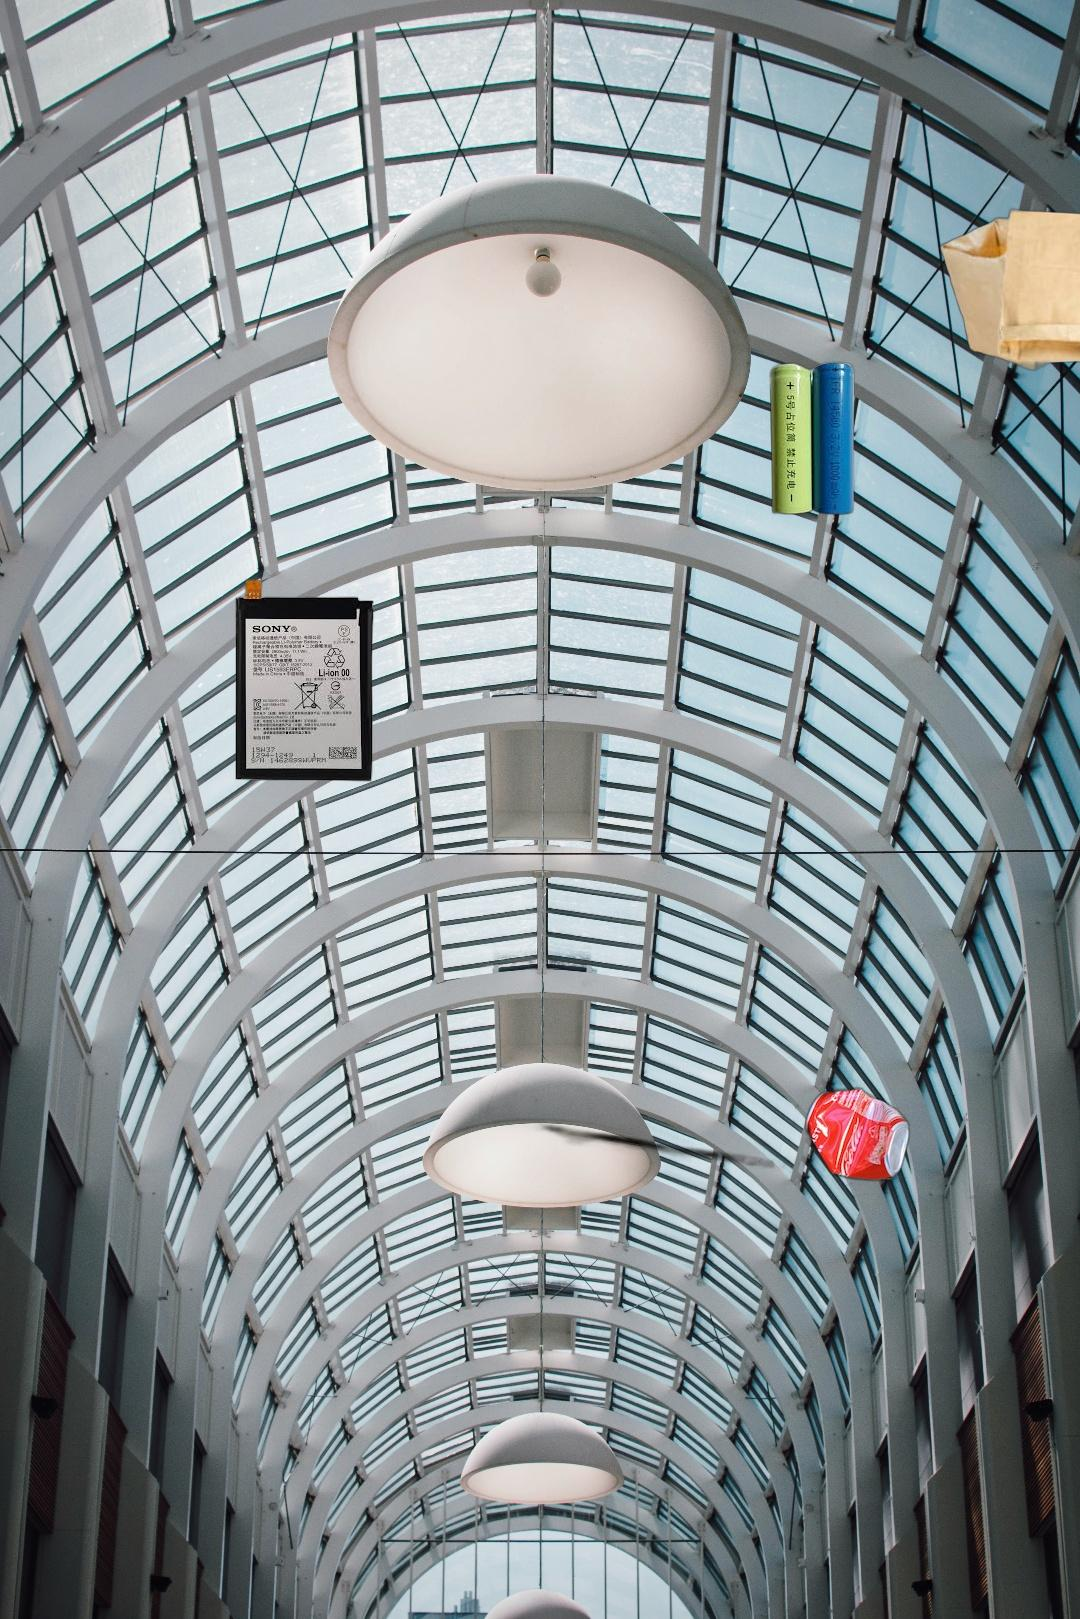battery: (233, 577, 376, 784), (767, 360, 857, 518)
metal-cans: (479, 976, 991, 1242)
paper-bag: (937, 148, 1080, 373)
